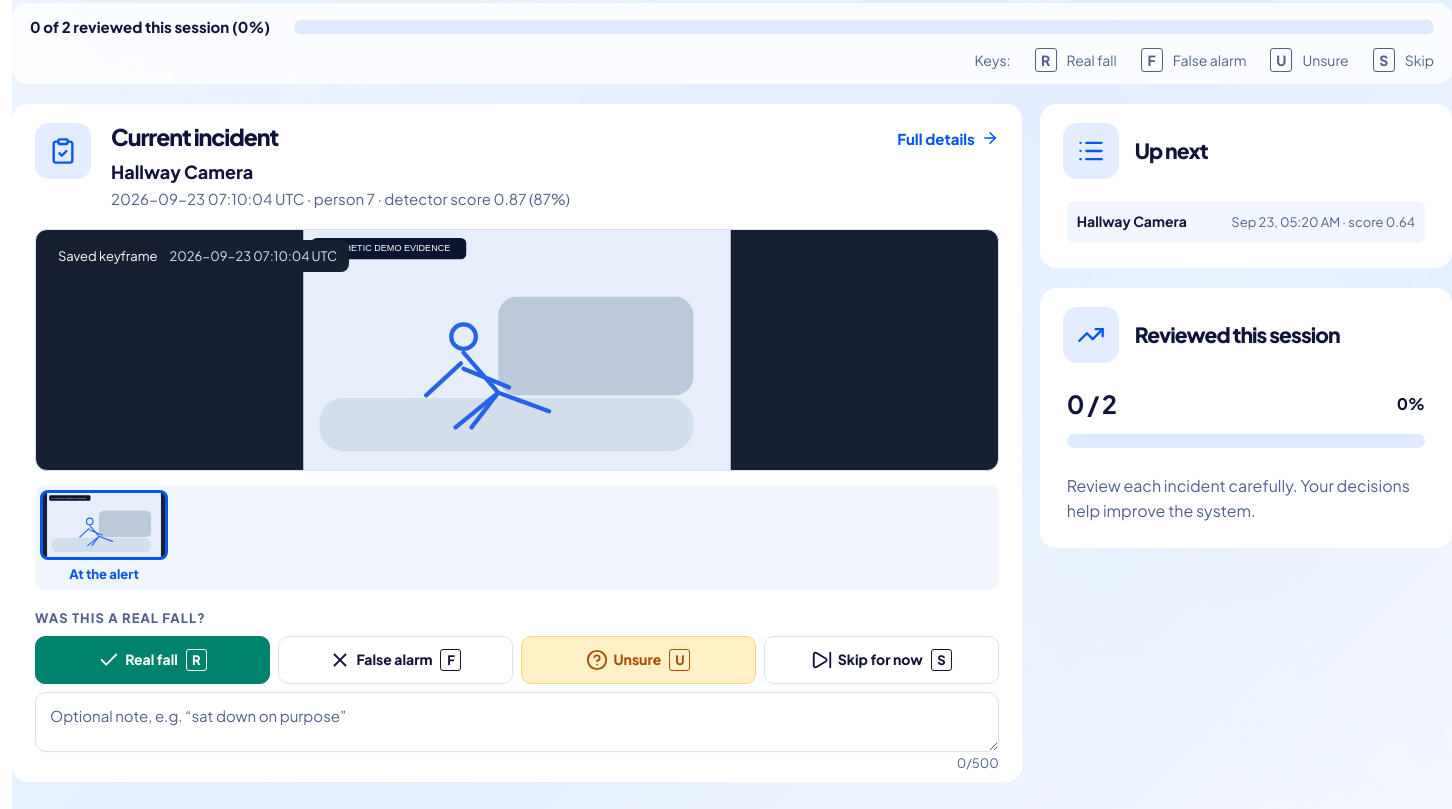
Review queue › records F as a false alarm and saves the note
The width and height of the screenshot is (1452, 809).
(page scrolled)
Check: the button "False alarm F" is enabled, box top-left (278, 636), bottom-right (513, 684)
In the text box named "Note (optional)": (517, 722) top-left (35, 692), bottom-right (999, 752), type "Sat down on purpose"
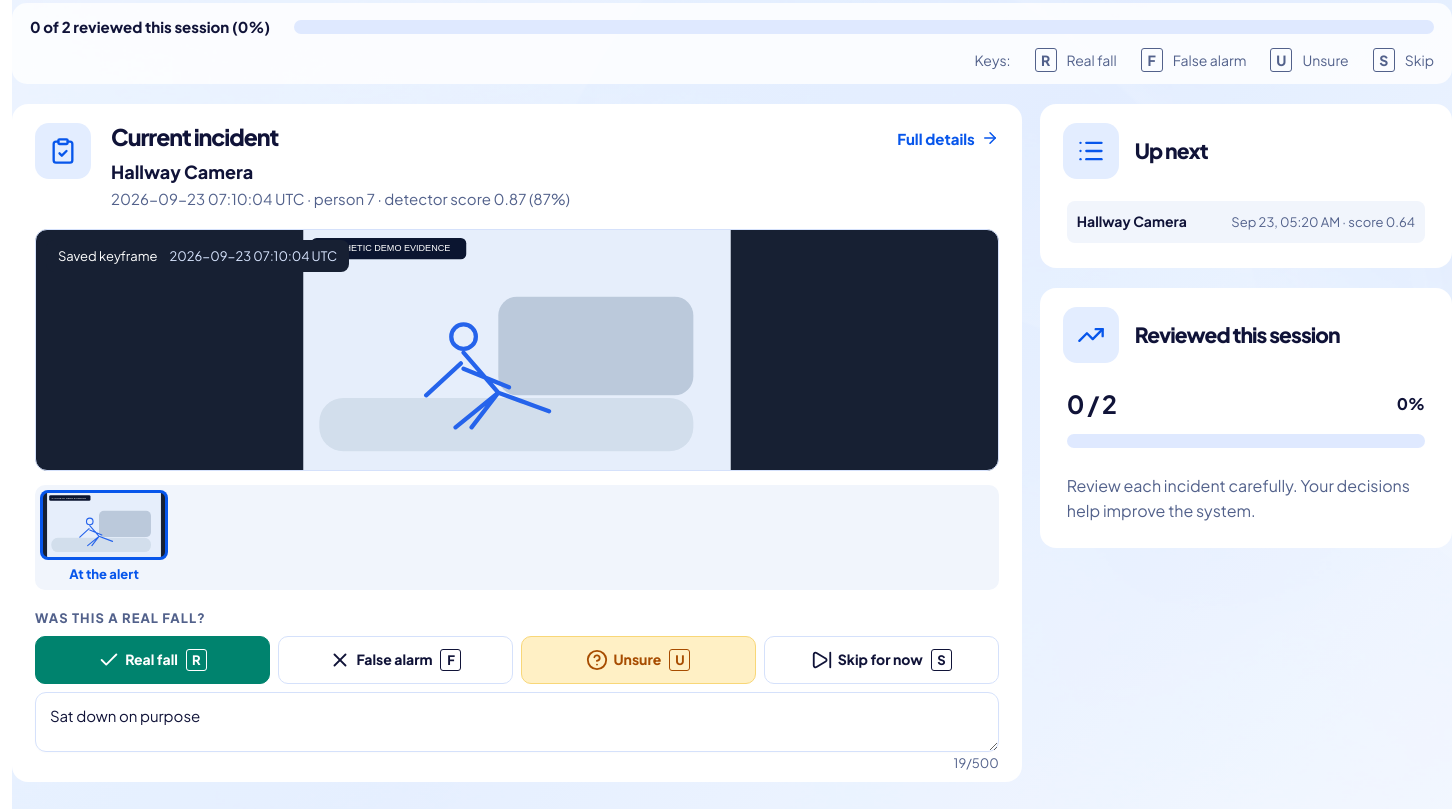
Check: the text "19/500" is shown, box top-left (954, 753), bottom-right (999, 773)
Press f
(page scrolled)
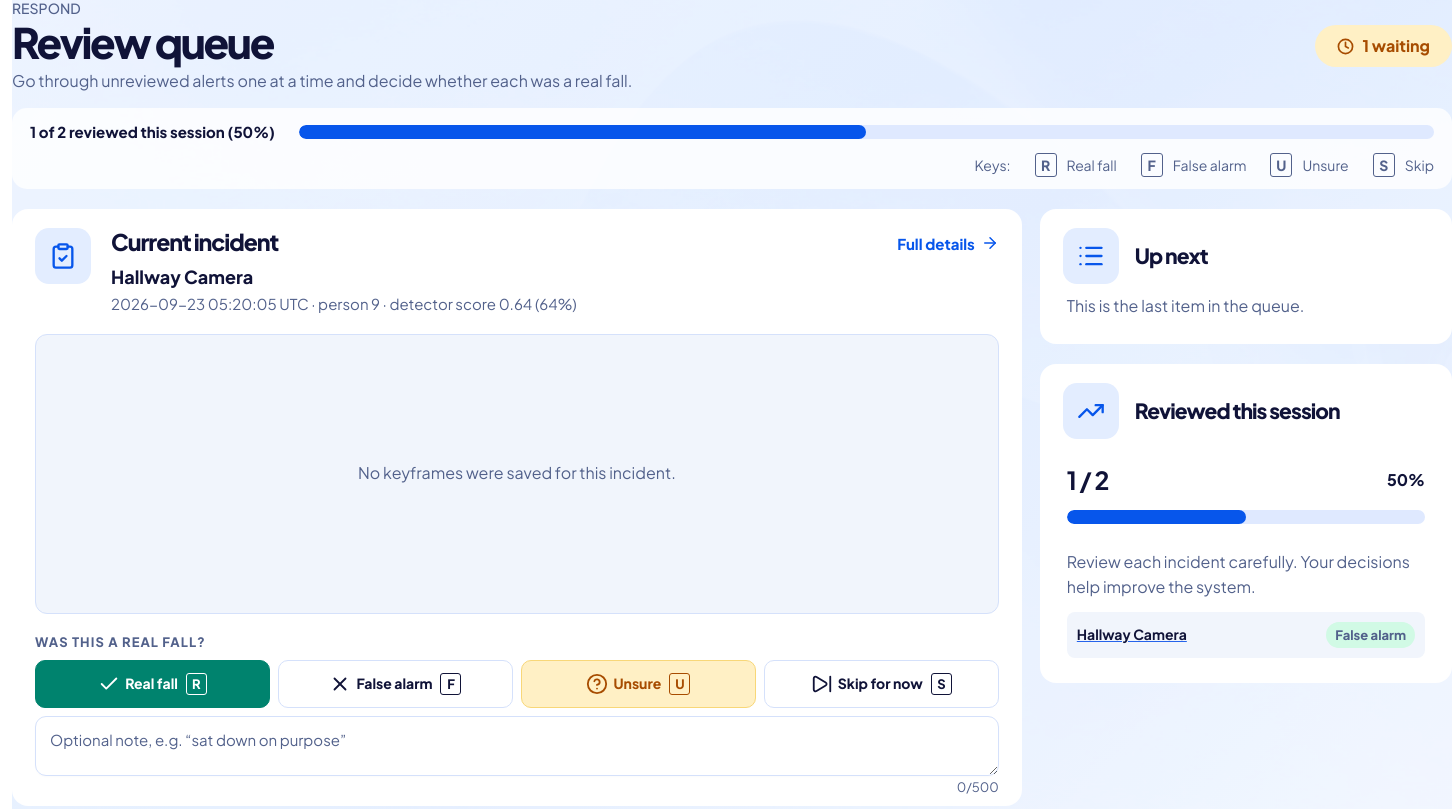
Check: the text "1 of 2 reviewed this session (50%)" is shown, box top-left (30, 120), bottom-right (275, 144)
